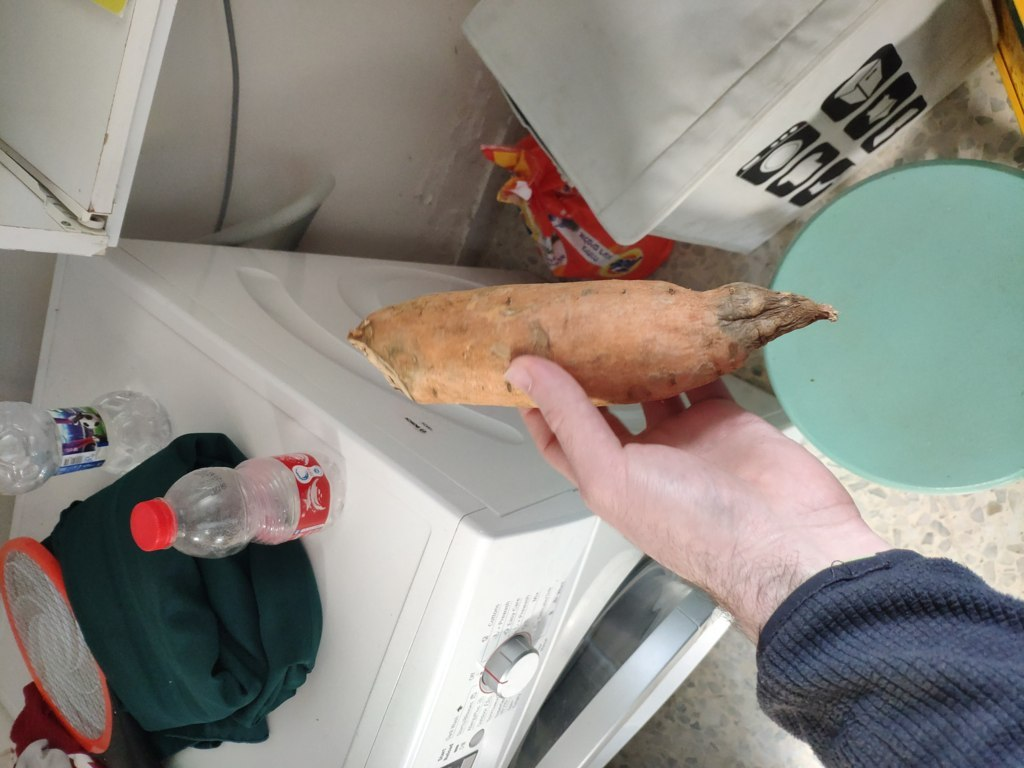Sweet Potato: (408, 280, 819, 440)
